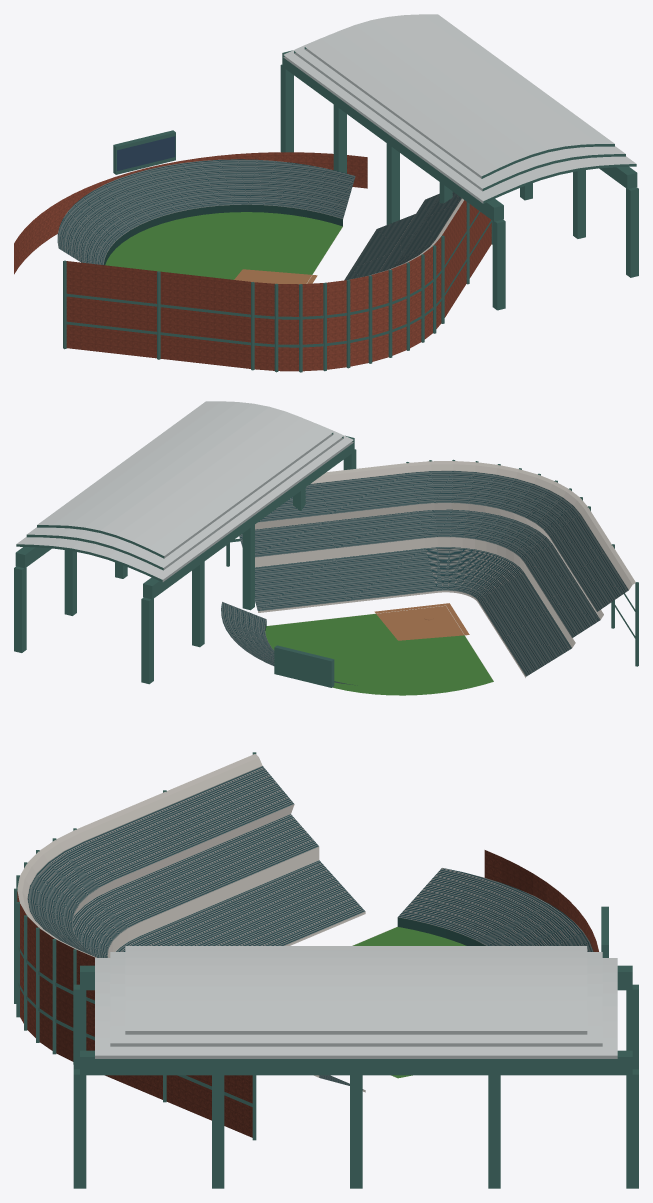
File: tmobile_park.glb
3 renders of one model, top to bottom at view 1: azimuth 30°, elevation 25°; view 2: azimuth 150°, elevation 25°; view 3: azimuth 270°, elevation 25°, orthographic. The views are drawn at different scales.
Parts seen in each view (by area): view 1: tmobile_park; view 2: tmobile_park; view 3: tmobile_park.
Boxes of the visible parts, x1=… form: tmobile_park: x1=14, y1=14, x2=638, y2=372; tmobile_park: x1=14, y1=401, x2=638, y2=695; tmobile_park: x1=14, y1=752, x2=638, y2=1188.
Size of the model in its own units: 307 by 74.01 by 249.
3 materials, 3 textured.
